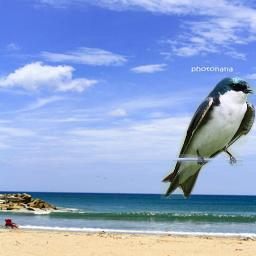Swallow: (160, 75, 255, 199)
